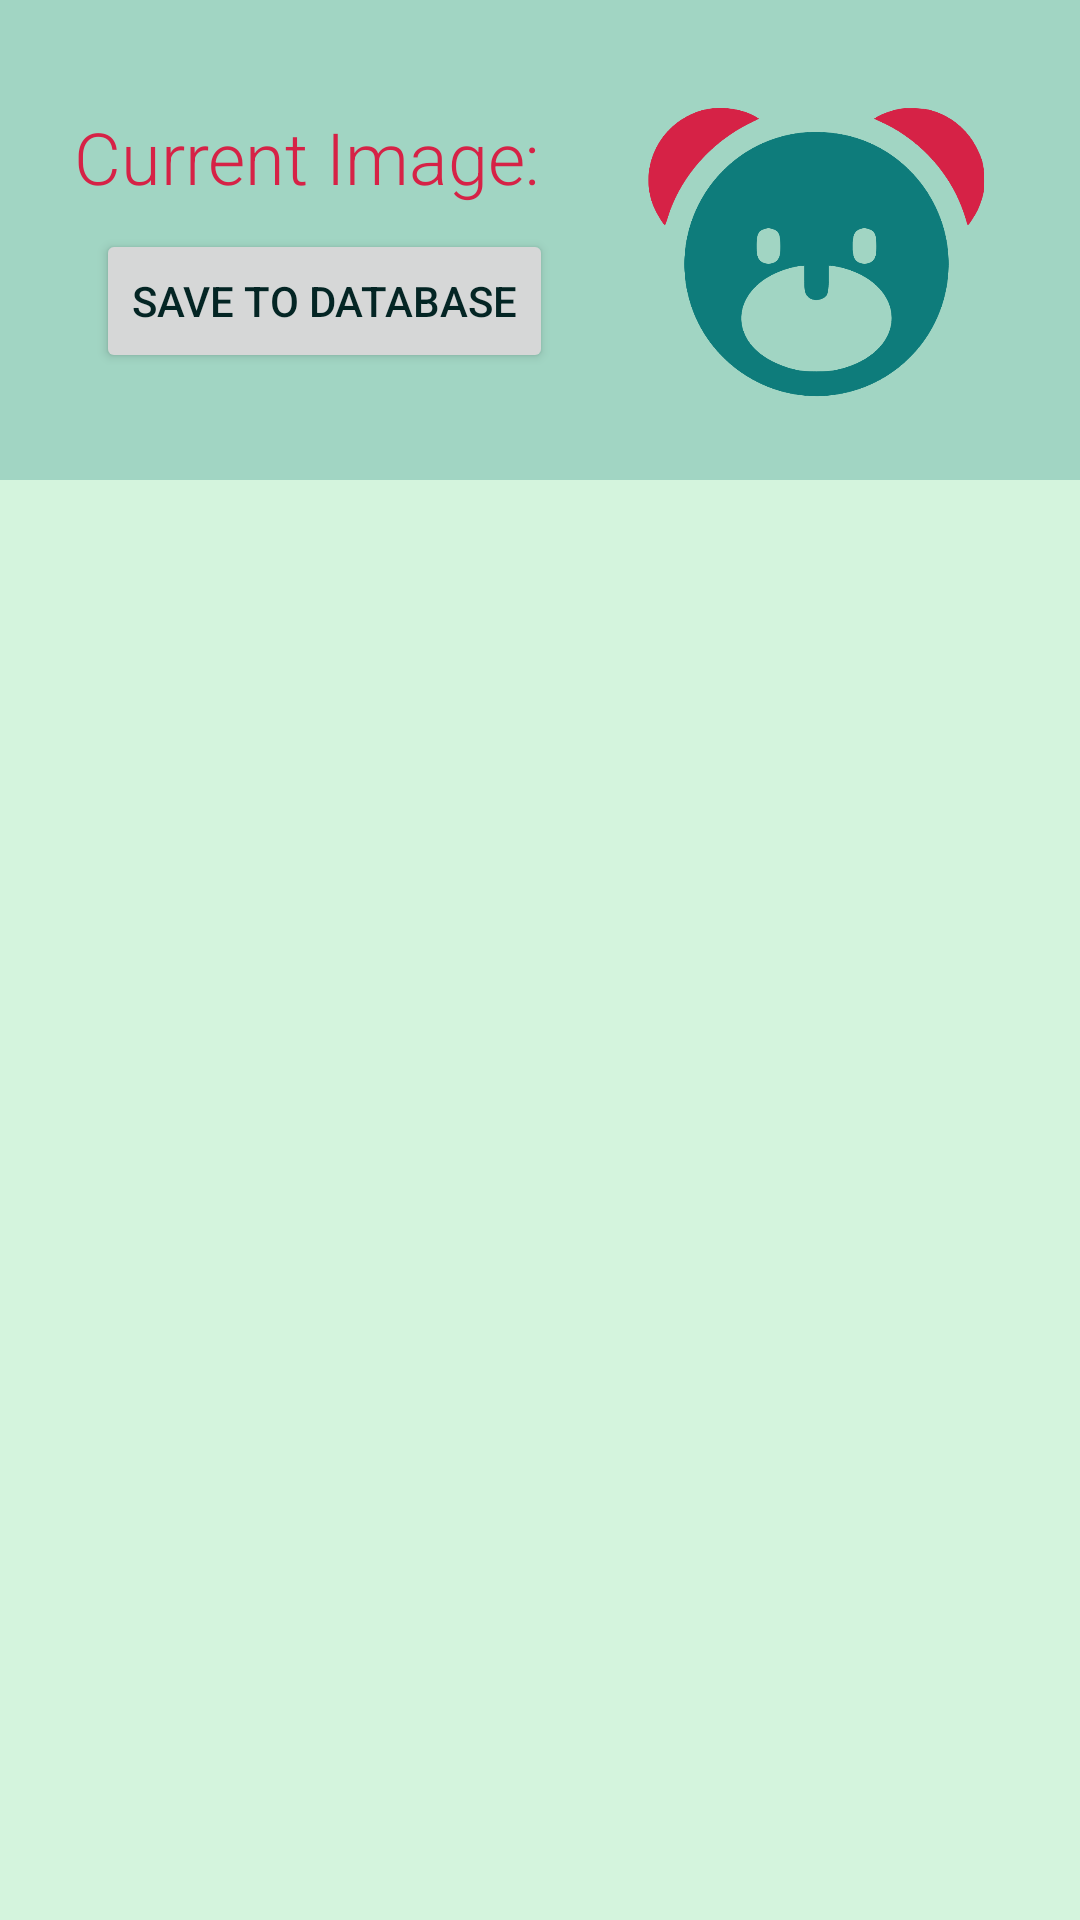

Locate icon controls on the screen. Image size 1080*1920, boxes as (x1,y1,x2,y2).
bear: (648,108,984,396)
